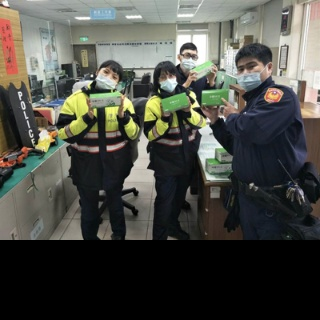with_mask: (236, 60, 267, 92), (95, 68, 119, 92), (158, 72, 178, 92), (180, 52, 198, 72)
